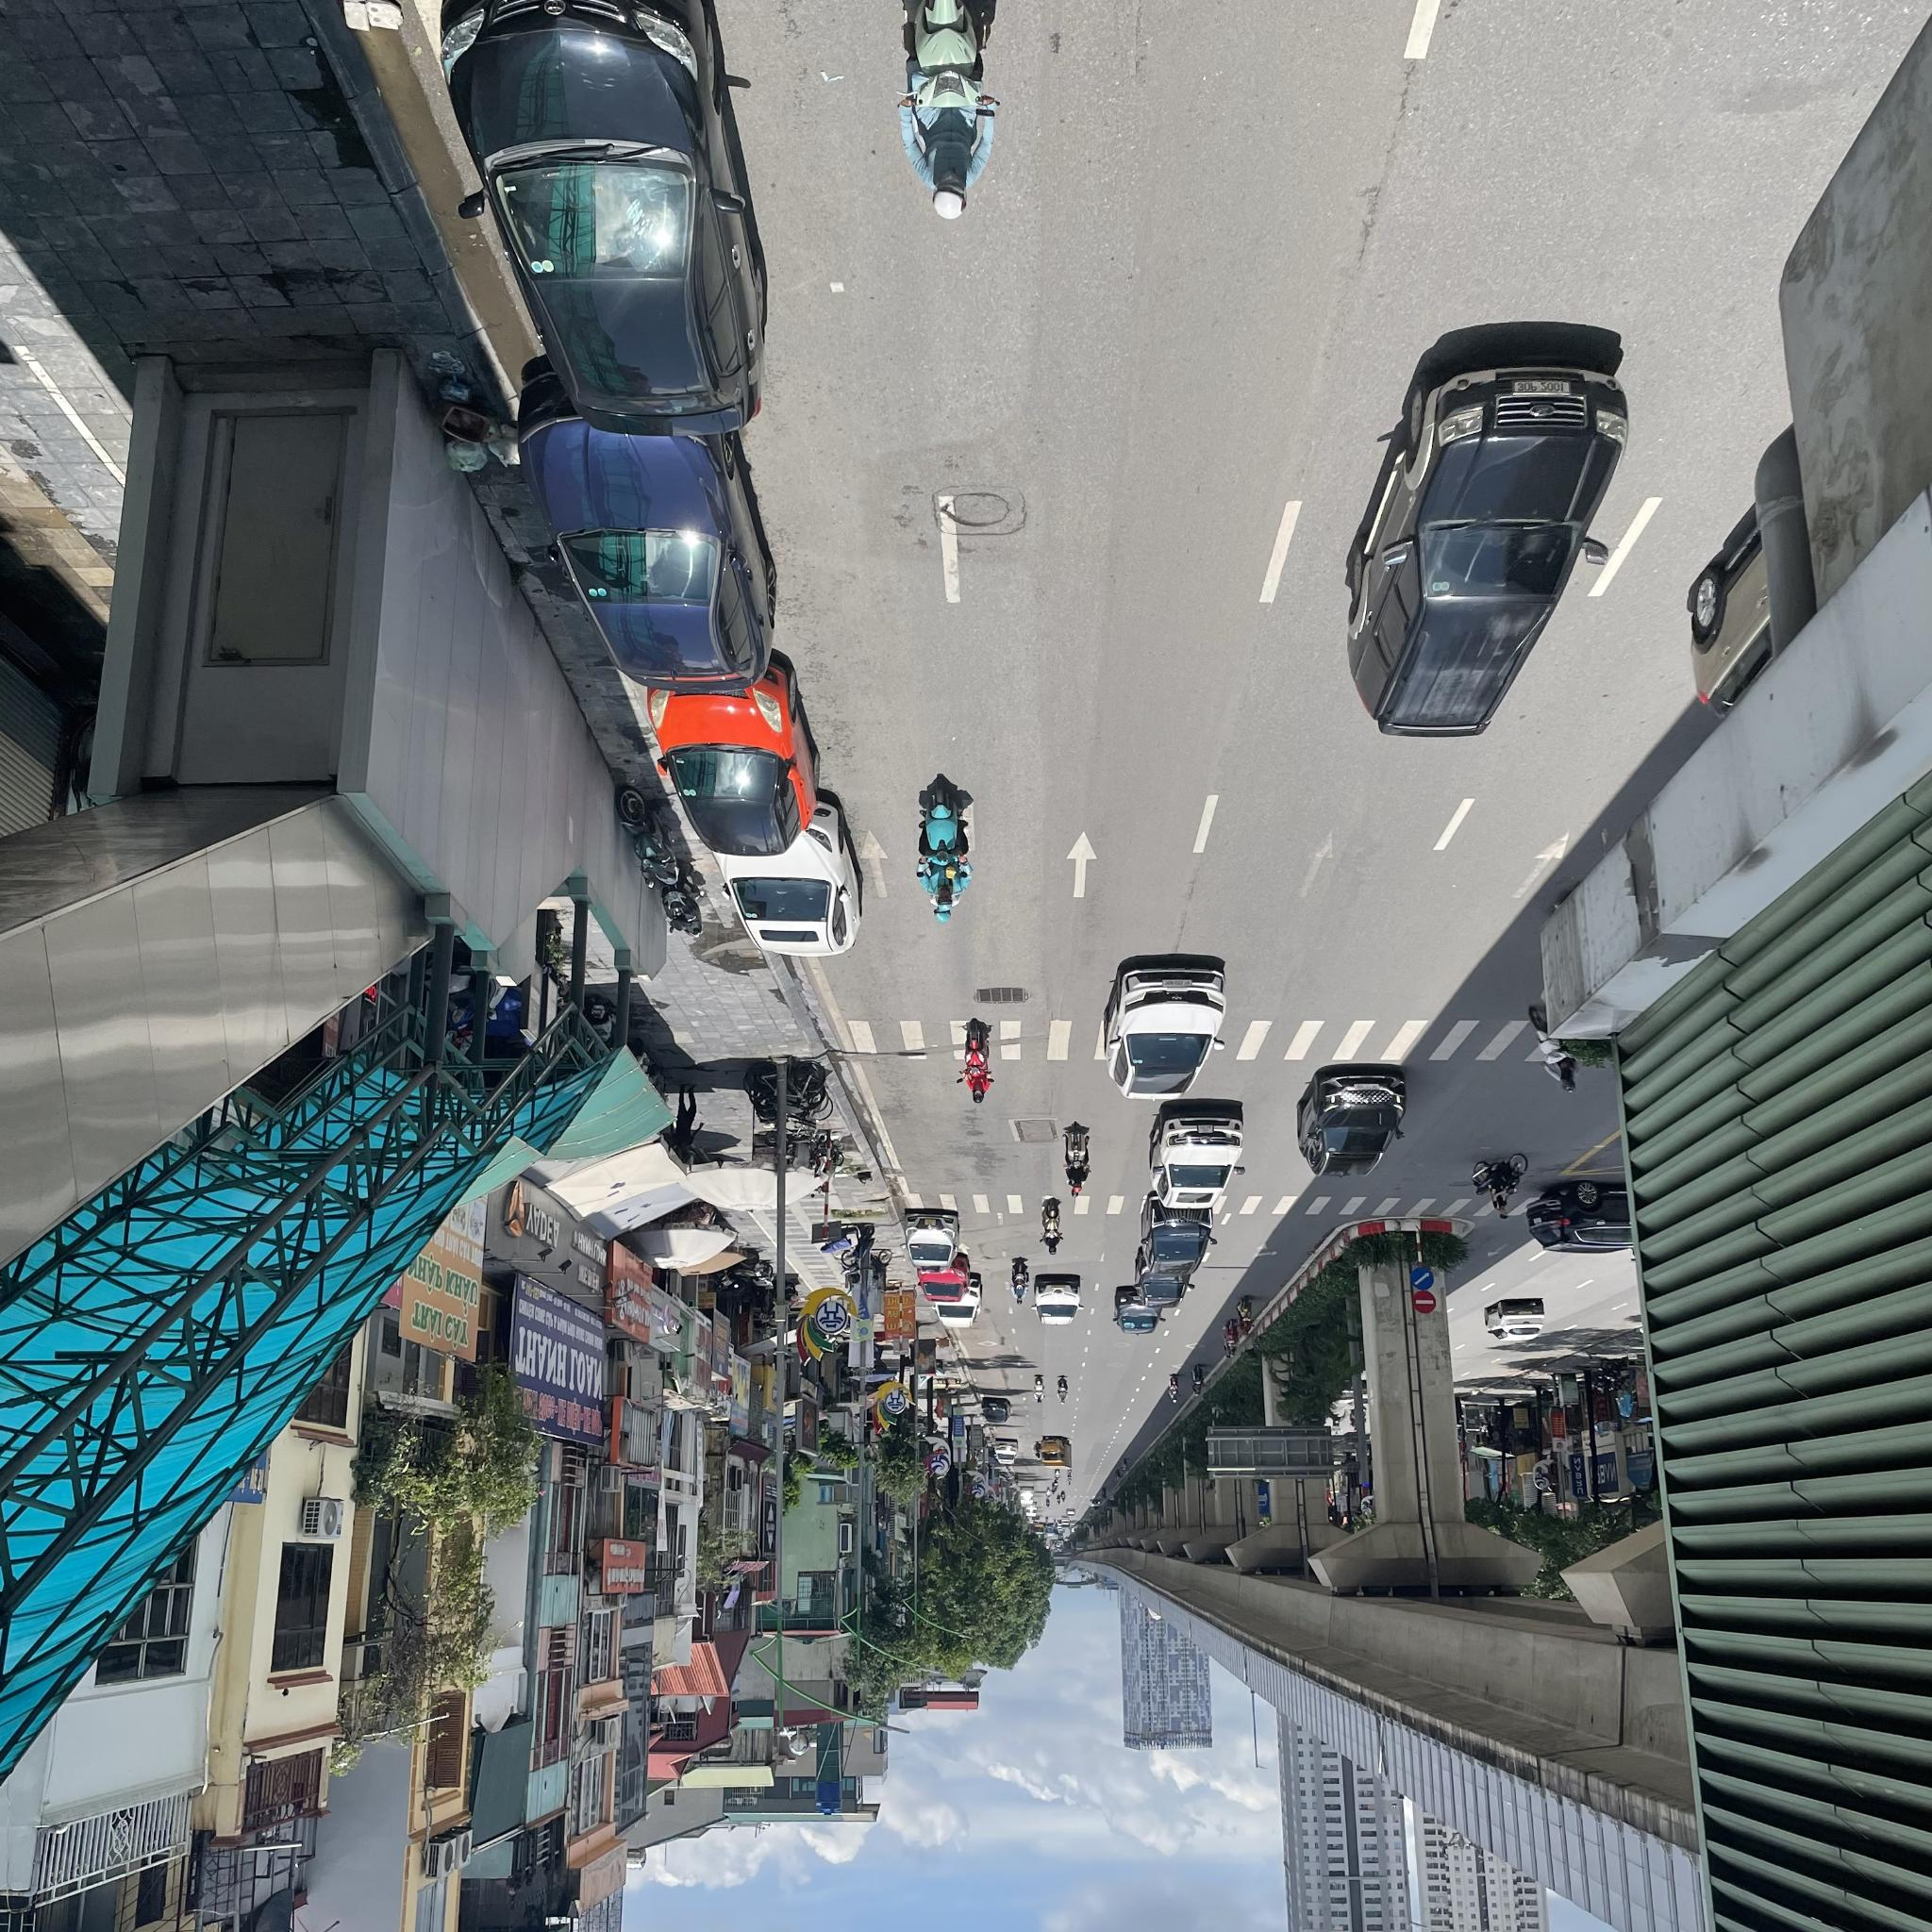car: (428, 16, 778, 416), (1341, 333, 1649, 743), (504, 379, 793, 692), (619, 663, 817, 851), (1106, 957, 1244, 1095), (729, 803, 849, 952), (1295, 1069, 1399, 1182), (1152, 1102, 1242, 1208), (1145, 1191, 1214, 1276), (899, 1210, 962, 1269), (1030, 1276, 1090, 1325), (1136, 1253, 1187, 1306), (934, 1274, 982, 1325), (1115, 1292, 1168, 1336), (913, 1263, 978, 1299), (1042, 1433, 1076, 1472), (991, 1433, 1021, 1467), (978, 1396, 1012, 1424)
motobike: (892, 0, 1031, 196), (913, 773, 985, 925), (961, 1016, 1005, 1100), (1470, 1157, 1530, 1219), (1060, 1123, 1095, 1196), (1033, 1198, 1067, 1258), (1007, 1258, 1033, 1304), (1233, 1292, 1256, 1336), (1224, 1316, 1237, 1361), (1192, 1361, 1207, 1398), (1168, 1373, 1184, 1405), (1056, 1380, 1072, 1407), (1033, 1378, 1046, 1408)
